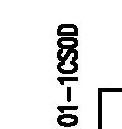verticaltext: (56, 21, 80, 128)
